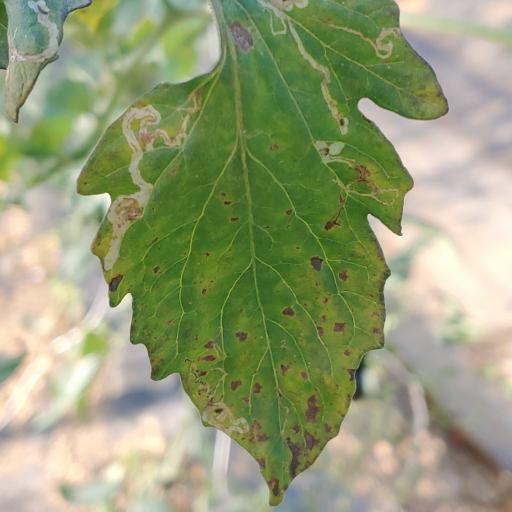disease_tomato: (74, 0, 450, 508)
